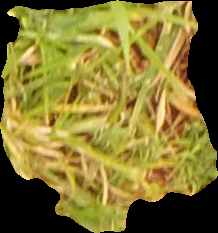grass: (1, 1, 216, 231)
